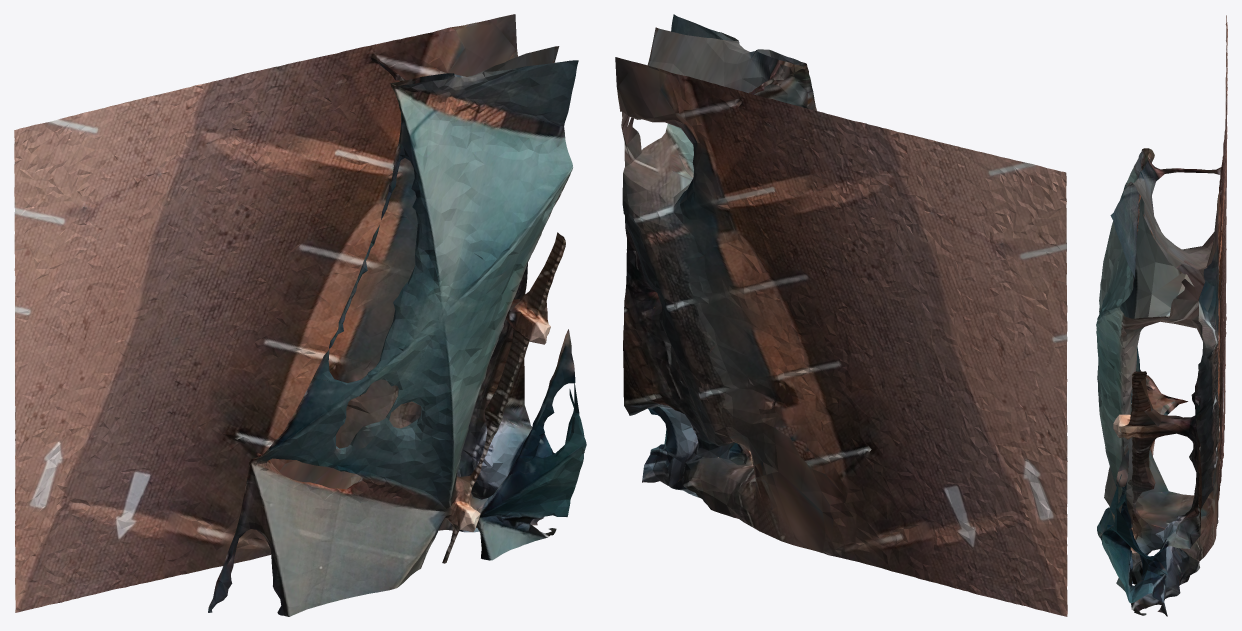
File: tile_2_6.obj
The picture shows the model from 3 angles, left to right: view 1: azimuth 30°, elevation 25°; view 2: azimuth 150°, elevation 25°; view 3: azimuth 270°, elevation 25°; orthographic projection. The views are drawn at different scales.
Visible parts, largest first — view 1: texture_0; view 2: texture_0; view 3: texture_0.
Boxes of the visible parts, x1,y1,x2,y2 form: texture_0: [14, 14, 586, 616]; texture_0: [615, 14, 1067, 616]; texture_0: [1096, 15, 1227, 616].
Bounding box in the file's own units: 13.88 × 12.92 × 3.84.
Materials: 1 (1 with a texture image).
